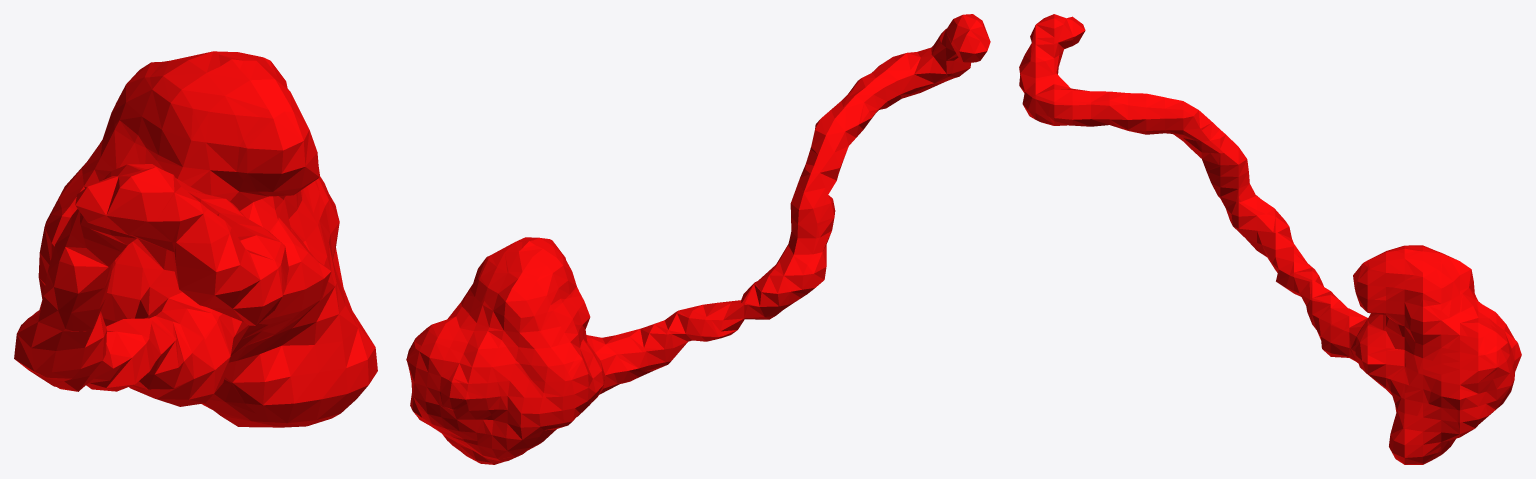
The model's file is dnaC_coarse.dae.
3 renders of one model, left to right at view 1: azimuth 30°, elevation 25°; view 2: azimuth 150°, elevation 25°; view 3: azimuth 270°, elevation 25°, orthographic. The views are drawn at different scales.
Parts seen in each view (by area): view 1: dnaC; view 2: dnaC; view 3: dnaC.
Boxes of the visible parts, x1,y1,x2,y2 form: dnaC: (14,51,377,427); dnaC: (406,14,990,464); dnaC: (1019,14,1521,464).
Bounding box in the file's own units: 95.73 × 91.21 × 129.
